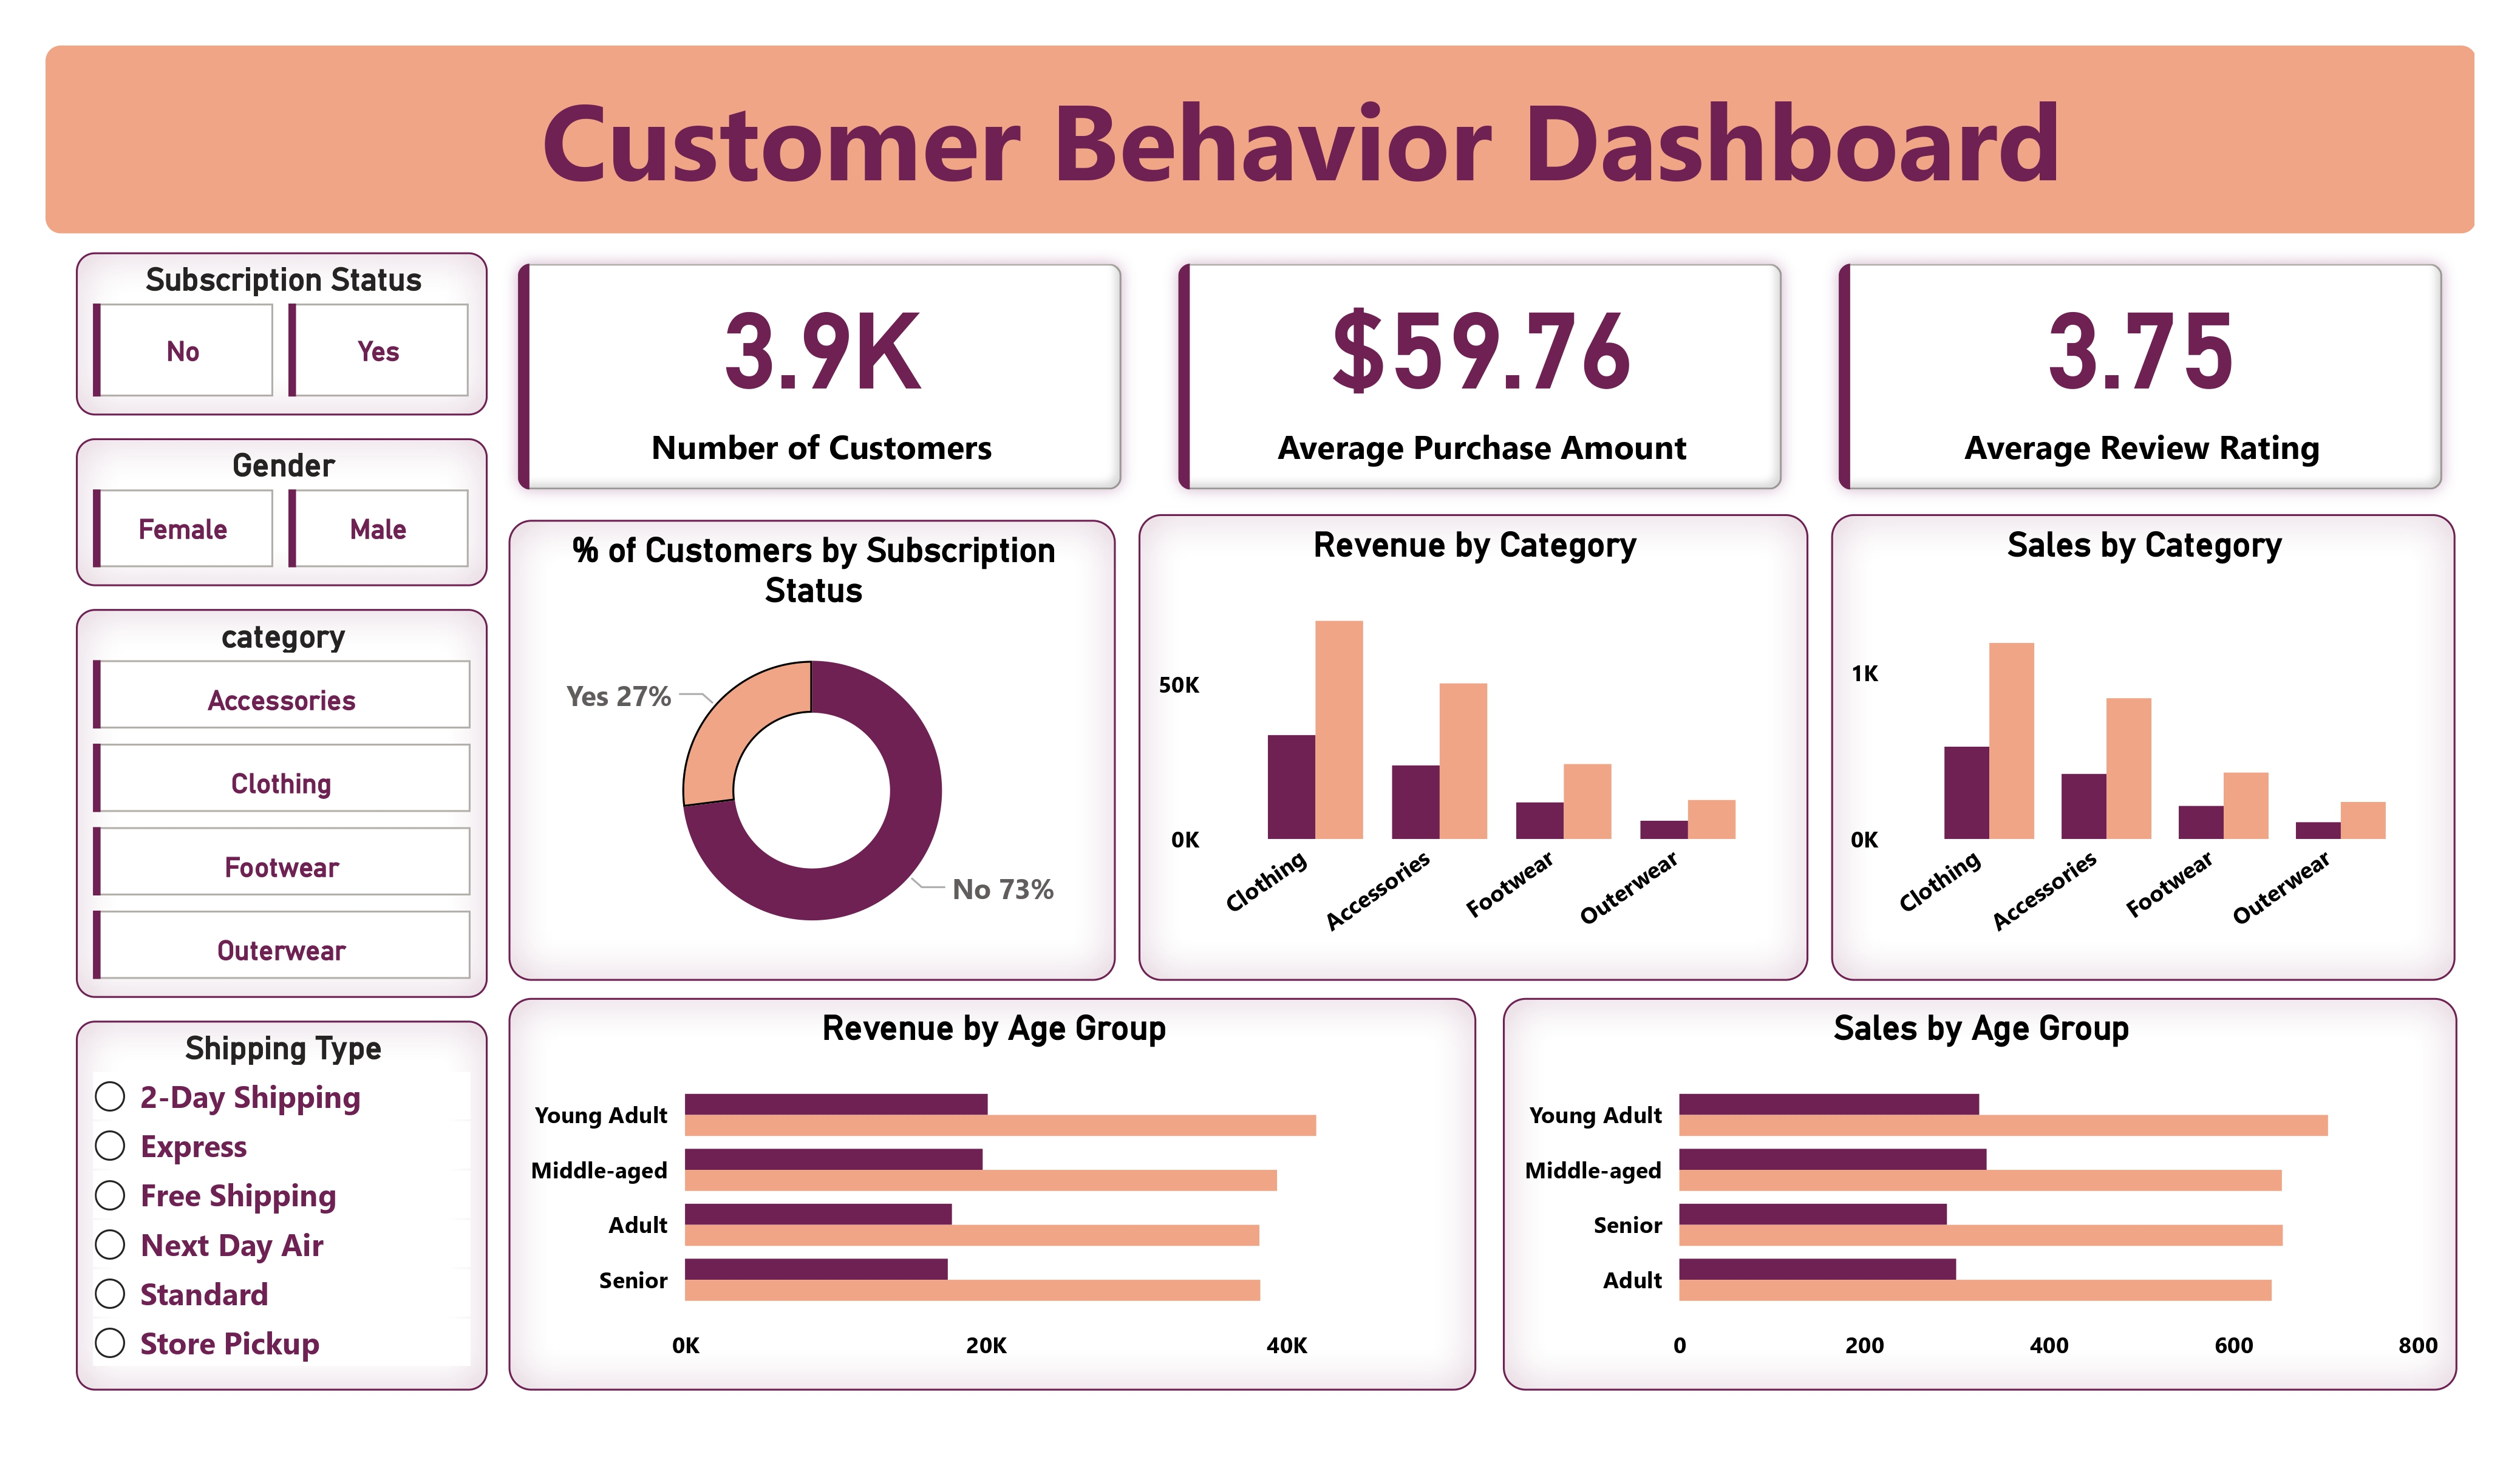

The dashboard page shown, as its layout file describes it:
{"tool":"powerbi","page":{"name":"Page 1","canvas":[1280,720],"ordinal":0},"visuals":[{"type":"cardVisual","fields":{"Data":["public customer.Number of Customers","public customer.Average Purchase Amount","public customer.Average Review Rating"]},"box":[233.4,99,1047.2,150.7],"z":0},{"type":"textbox","box":[0,0,1280.5,99],"z":1000},{"type":"donutChart","title":"% of Customers by Subscription Status","fields":{"Y":["CountNonNull(public customer.customer_id)"],"Category":["public customer.subscription_status"]},"box":[243.7,249.6,320.5,243.7],"z":2000},{"type":"clusteredColumnChart","title":"Revenue by Category","fields":{"Y":["Sum(public customer.purchase_amount)"],"Category":["public customer.category"],"Series":["public customer.gender"]},"box":[576,246.7,353,246.7],"z":3000},{"type":"clusteredColumnChart","title":"Sales by Category","fields":{"Y":["CountNonNull(public customer.customer_id)"],"Category":["public customer.category"],"Series":["public customer.gender"]},"box":[940.8,246.7,329.4,246.7],"z":4000},{"type":"advancedSlicerVisual","title":"Subscription Status","fields":{"Values":["public customer.subscription_status"]},"box":[16.2,109.3,217.1,85.7],"z":5000},{"type":"advancedSlicerVisual","title":"Gender","fields":{"Values":["public customer.gender"]},"box":[16.2,206.8,217.1,78.3],"z":6000},{"type":"listSlicer","title":"Shipping Type","fields":{"Values":["public customer.shipping_type"]},"box":[16.2,514,217.1,195],"z":7000},{"type":"advancedSlicerVisual","fields":{"Values":["public customer.category"]},"box":[16.2,296.9,217.1,205.3],"z":8000},{"type":"clusteredBarChart","title":"Revenue by Age Group","fields":{"Y":["Sum(public customer.purchase_amount)"],"Category":["public customer.age_group"],"Series":["public customer.gender"]},"box":[244.1,502.3,510.1,206.6],"z":9000},{"type":"clusteredBarChart","title":"Sales by Age Group","fields":{"Category":["public customer.age_group"],"Y":["CountNonNull(public customer.customer_id)"],"Series":["public customer.gender"]},"box":[768.3,502.3,502.3,206.6],"z":10000}]}

Visuals, with their boxes in screenshot pixels (x1, y1, x2, y2):
cardVisual - public customer.Number of Customers x public customer.Average Purchase Amount: (left=488, top=233, right=2474, bottom=519)
textbox: (left=46, top=46, right=2474, bottom=233)
"% of Customers by Subscription Status" donutChart: (left=508, top=519, right=1116, bottom=982)
"Revenue by Category" clusteredColumnChart: (left=1139, top=514, right=1808, bottom=982)
"Sales by Category" clusteredColumnChart: (left=1831, top=514, right=2456, bottom=982)
"Subscription Status" advancedSlicerVisual: (left=77, top=253, right=488, bottom=415)
"Gender" advancedSlicerVisual: (left=77, top=438, right=488, bottom=586)
"Shipping Type" listSlicer: (left=77, top=1021, right=488, bottom=1391)
advancedSlicerVisual - public customer.category: (left=77, top=609, right=488, bottom=998)
"Revenue by Age Group" clusteredBarChart: (left=509, top=999, right=1477, bottom=1390)
"Sales by Age Group" clusteredBarChart: (left=1503, top=999, right=2457, bottom=1390)
